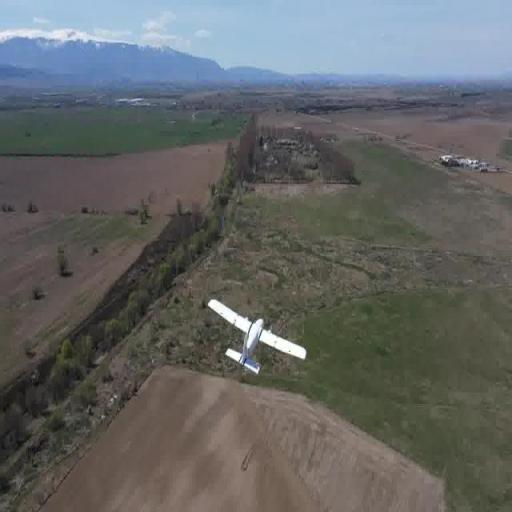uav: (206, 290, 310, 386)
